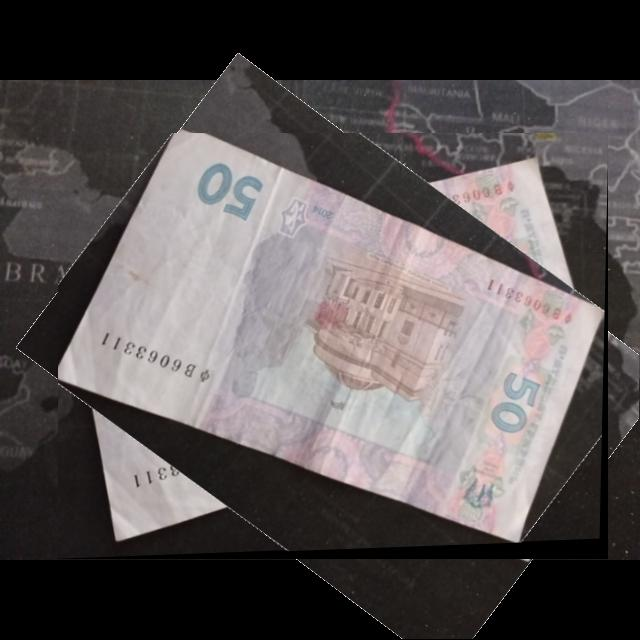50uah: (58, 133, 606, 546)
